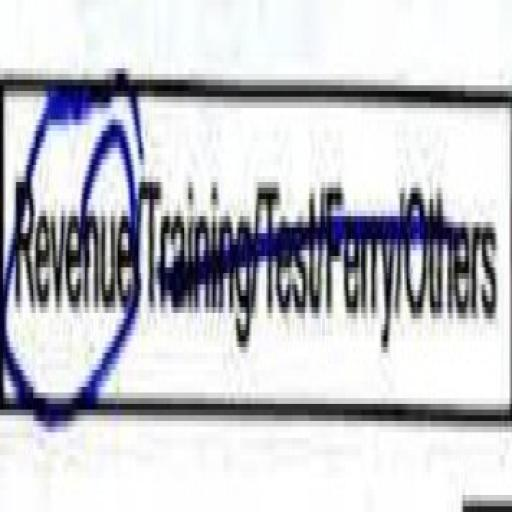check: (0, 0, 140, 466)
